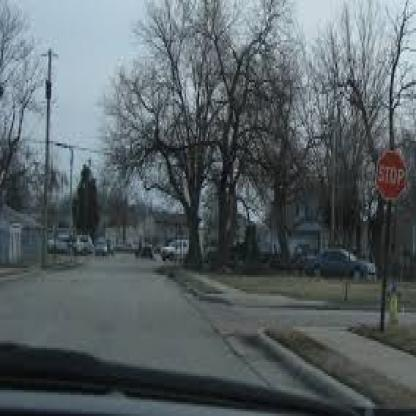car: (300, 238, 384, 298), (159, 225, 199, 269)
